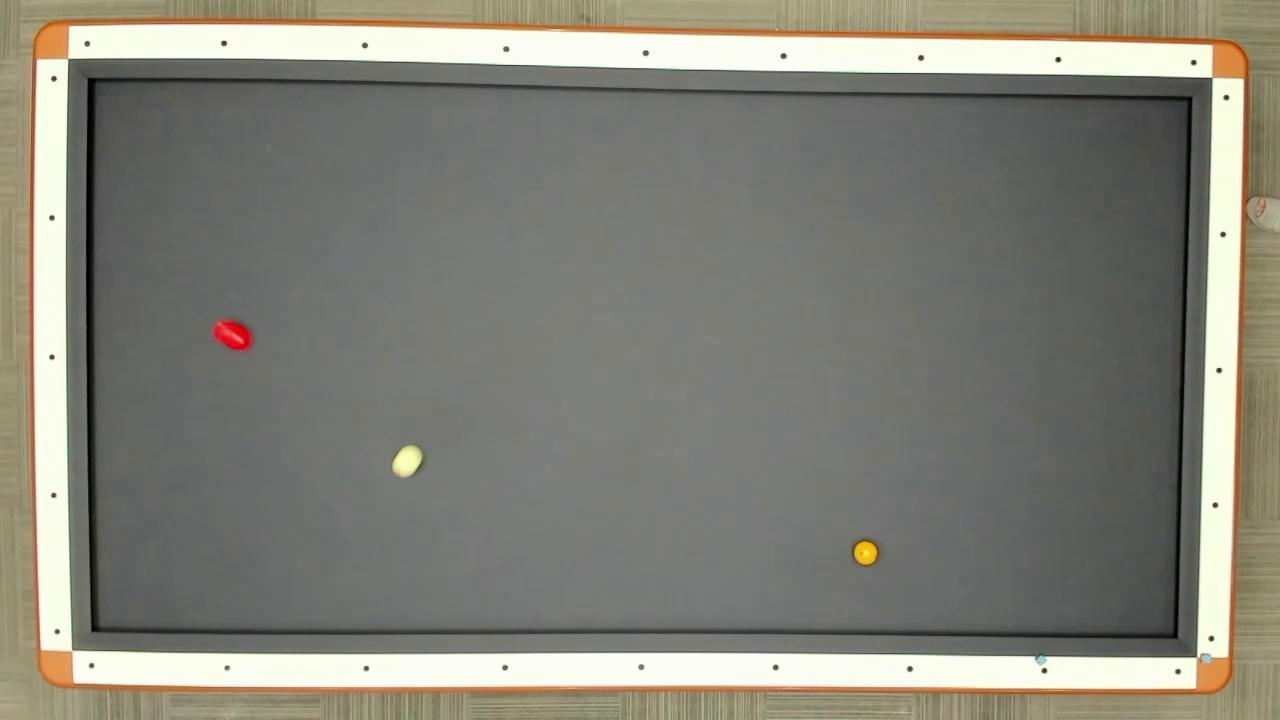Red: (210, 318, 252, 352)
White: (388, 442, 424, 481)
Yellow: (852, 538, 880, 568)
